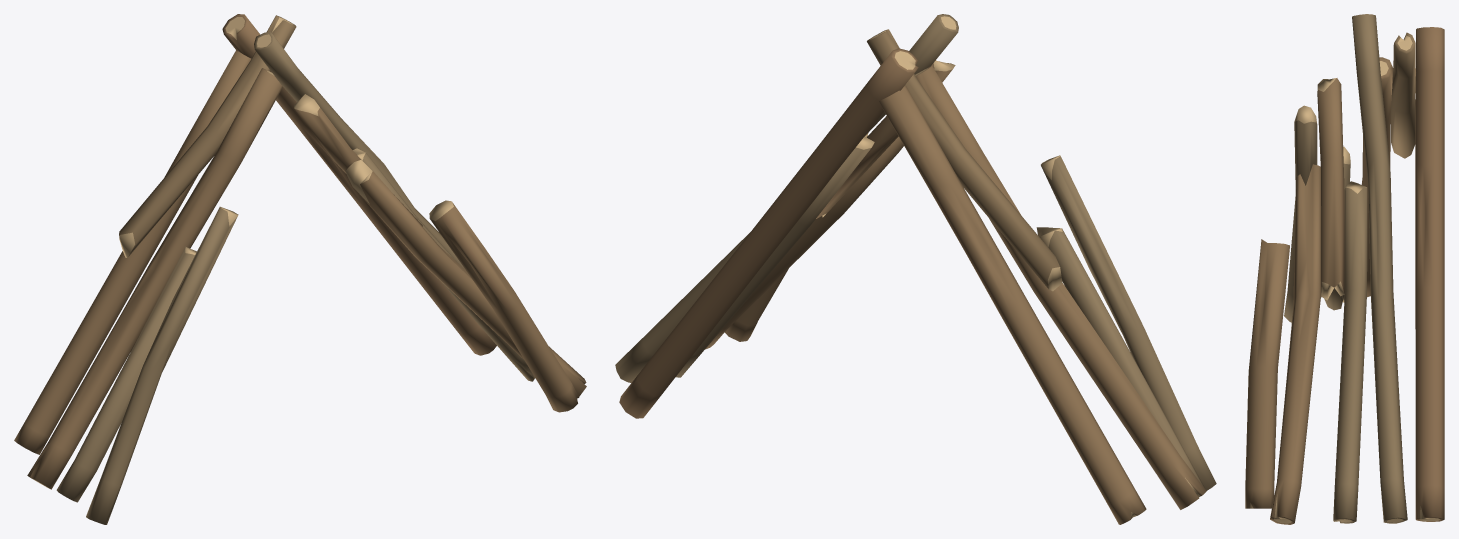
Rendered from rpgpp_av_roof_01_6x5x3_c.gltf.
3 renders of one model, left to right at view 1: azimuth 30°, elevation 25°; view 2: azimuth 150°, elevation 25°; view 3: azimuth 270°, elevation 25°, orthographic. The views are drawn at different scales.
Visible parts, largest first — view 1: rpgpp_av_roof_01_6x5x3_c; view 2: rpgpp_av_roof_01_6x5x3_c; view 3: rpgpp_av_roof_01_6x5x3_c.
Boxes of the visible parts, box(x1,y1,x2,y2) form: rpgpp_av_roof_01_6x5x3_c: box(14, 14, 586, 524); rpgpp_av_roof_01_6x5x3_c: box(615, 14, 1216, 524); rpgpp_av_roof_01_6x5x3_c: box(1245, 14, 1444, 524).
Bounding box in the file's own units: 0.0863 × 0.0656 × 0.0292.
Materials: 1 (1 with a texture image).
